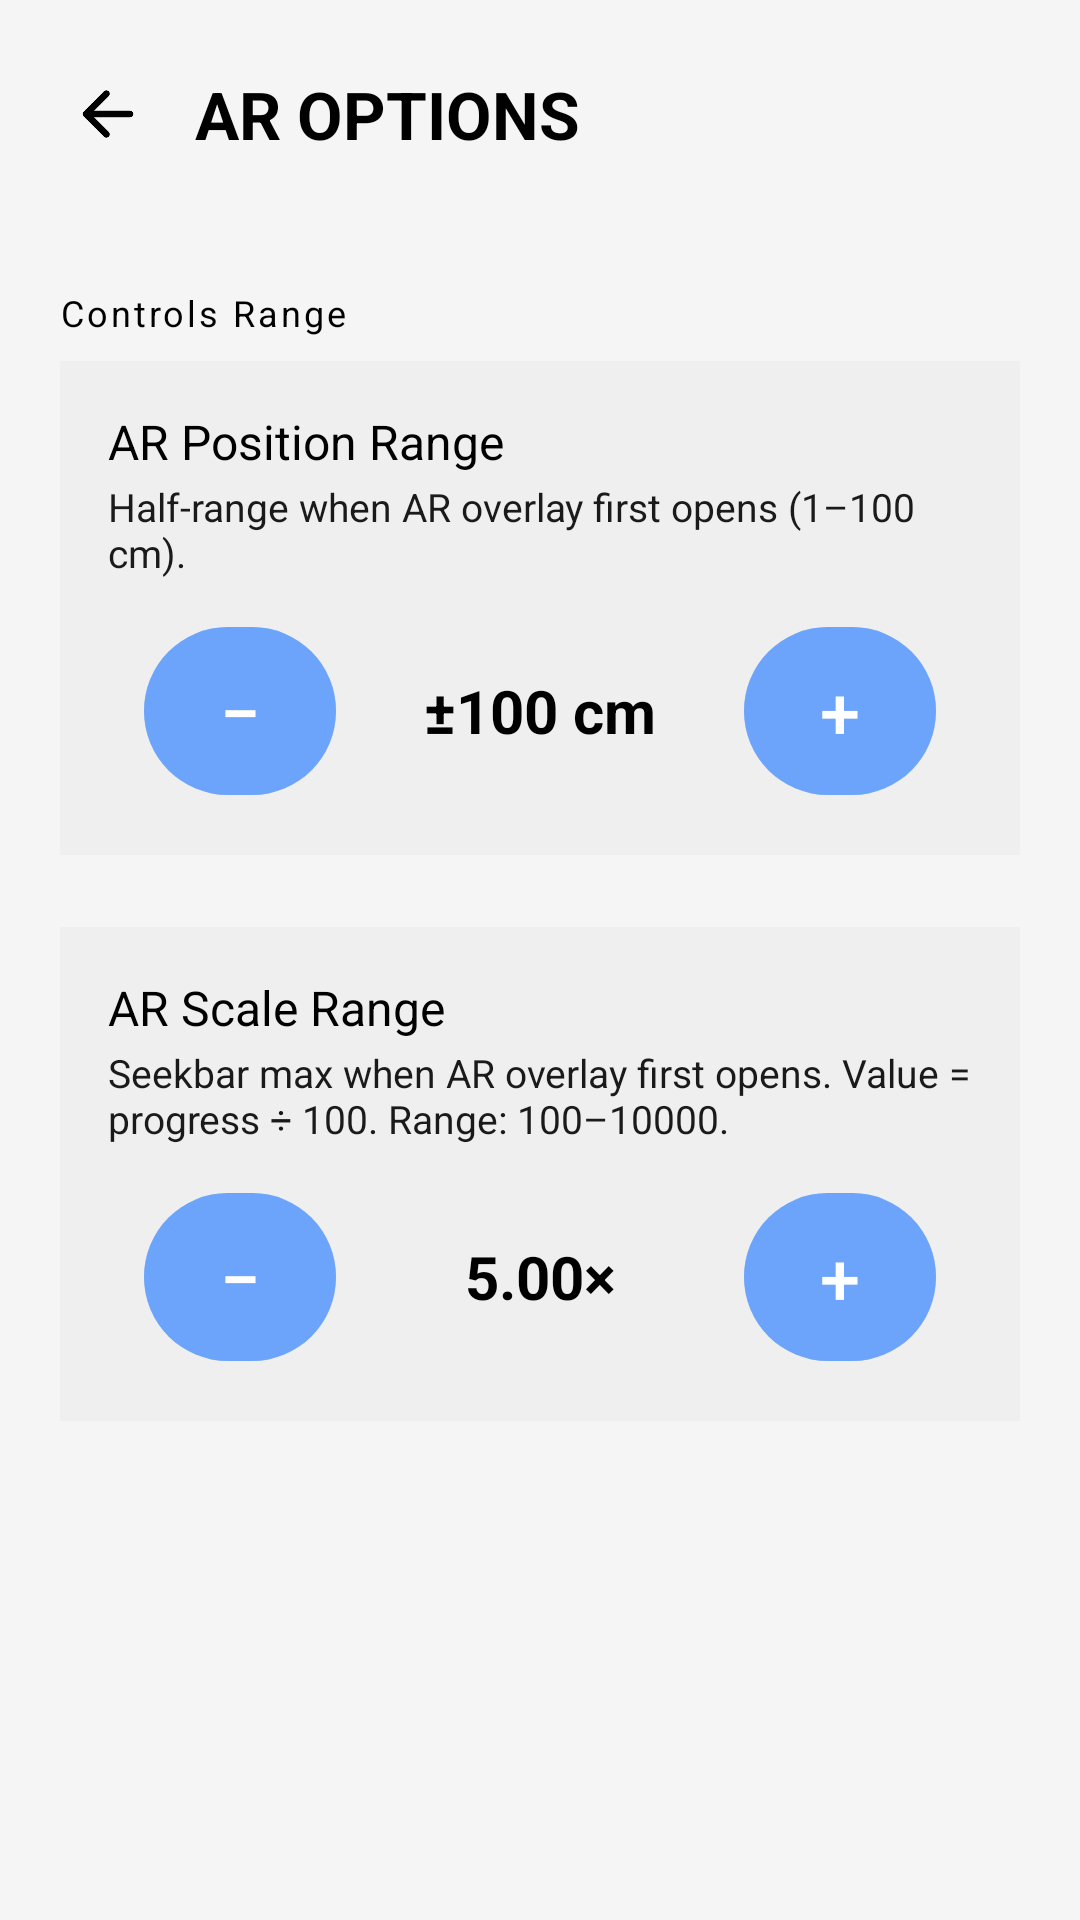

Named icons in this screenshot (1080*1920) and their centers, (x=x, y=y):
Back: (x=108, y=114)
